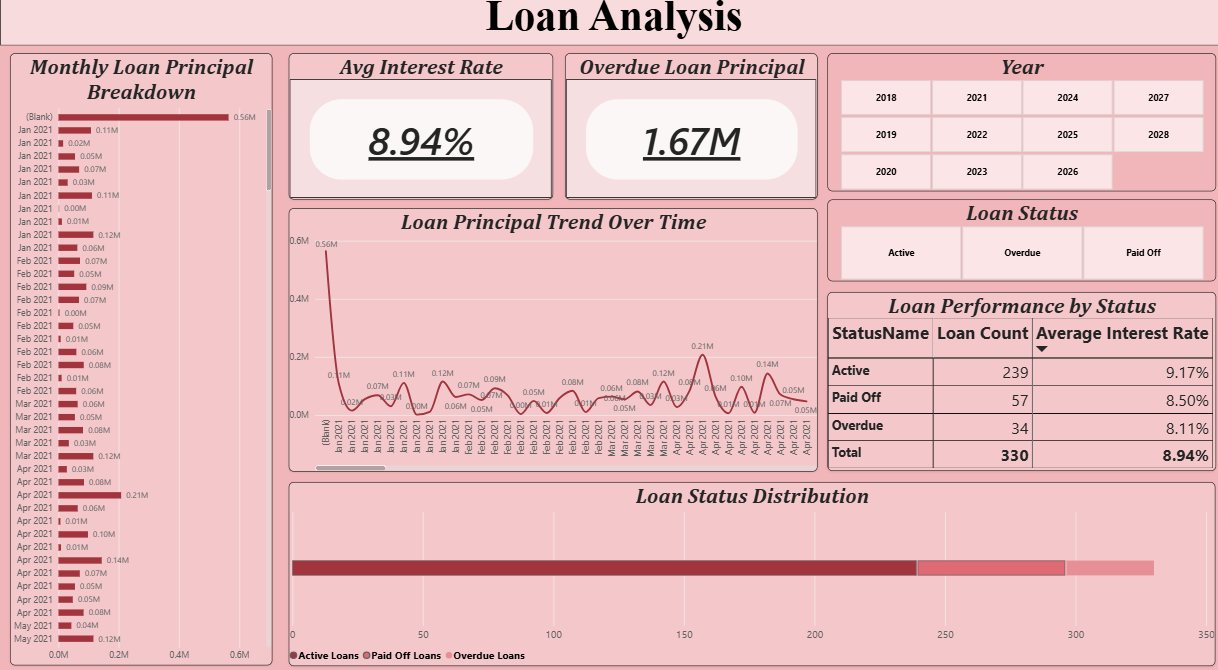

The page's visual inventory and layout, read from the dashboard file:
{"tool":"powerbi","page":{"name":"Loans","canvas":[1920,1080],"ordinal":2},"visuals":[{"type":"cardVisual","title":"Avg Interest Rate","fields":{"Data":["_Measures.Average Interest Rate"]},"box":[452.2,104.3,413.7,228.8],"z":0},{"type":"cardVisual","title":"Overdue Loan Principal","fields":{"Data":["_Measures.Overdue Principal Amount"]},"box":[884.2,104.3,395.4,228.8],"z":1000},{"type":"barChart","title":"Monthly Loan Principal Breakdown","fields":{"Y":["_Measures.Total Principal Amount"],"Category":["_Date Loans.MonthYear"]},"box":[16.5,104.3,410.1,957.4],"z":2000},{"type":"pivotTable","title":"Loan Performance by Status","fields":{"Values":["_Measures.Loan Count","_Measures.Average Interest Rate"],"Rows":["loan_statuses.StatusName"]},"box":[1294.3,477.8,607.8,280.1],"z":3000},{"type":"barChart","title":"Loan Status Distribution","fields":{"Y":["_Measures.Active Loans","_Measures.Paid Off Loans","_Measures.Overdue Loans"]},"box":[452.4,774.5,1449.5,287.7],"z":4000},{"type":"slicer","title":"Year","fields":{"Values":["_Date Loans.Year"]},"box":[1294.3,104.3,607.8,216],"z":5000},{"type":"slicer","title":"Loan Status","fields":{"Values":["loan_statuses.StatusName"]},"box":[1294.3,333.2,607.8,128.1],"z":6000},{"type":"lineChart","title":"Loan Principal Trend Over Time","fields":{"Y":["_Measures.Total Principal Amount"],"Category":["_Date Loans.MonthYear"]},"box":[452.2,346,827.5,411.9],"z":7000},{"type":"shape","box":[0,0,1920.4,91.5],"z":7001}]}

Visuals, with their boxes in screenshot pixels (x1, y1, x2, y2), scaled from the page's 1920x1080 canvas onto the 1218x670 screenshot:
"Avg Interest Rate" cardVisual: 287,65,549,207
"Overdue Loan Principal" cardVisual: 561,65,812,207
"Monthly Loan Principal Breakdown" barChart: 10,65,271,659
"Loan Performance by Status" pivotTable: 821,296,1207,470
"Loan Status Distribution" barChart: 287,480,1207,659
"Year" slicer: 821,65,1207,199
"Loan Status" slicer: 821,207,1207,286
"Loan Principal Trend Over Time" lineChart: 287,215,812,470
shape: 0,0,1217,57
